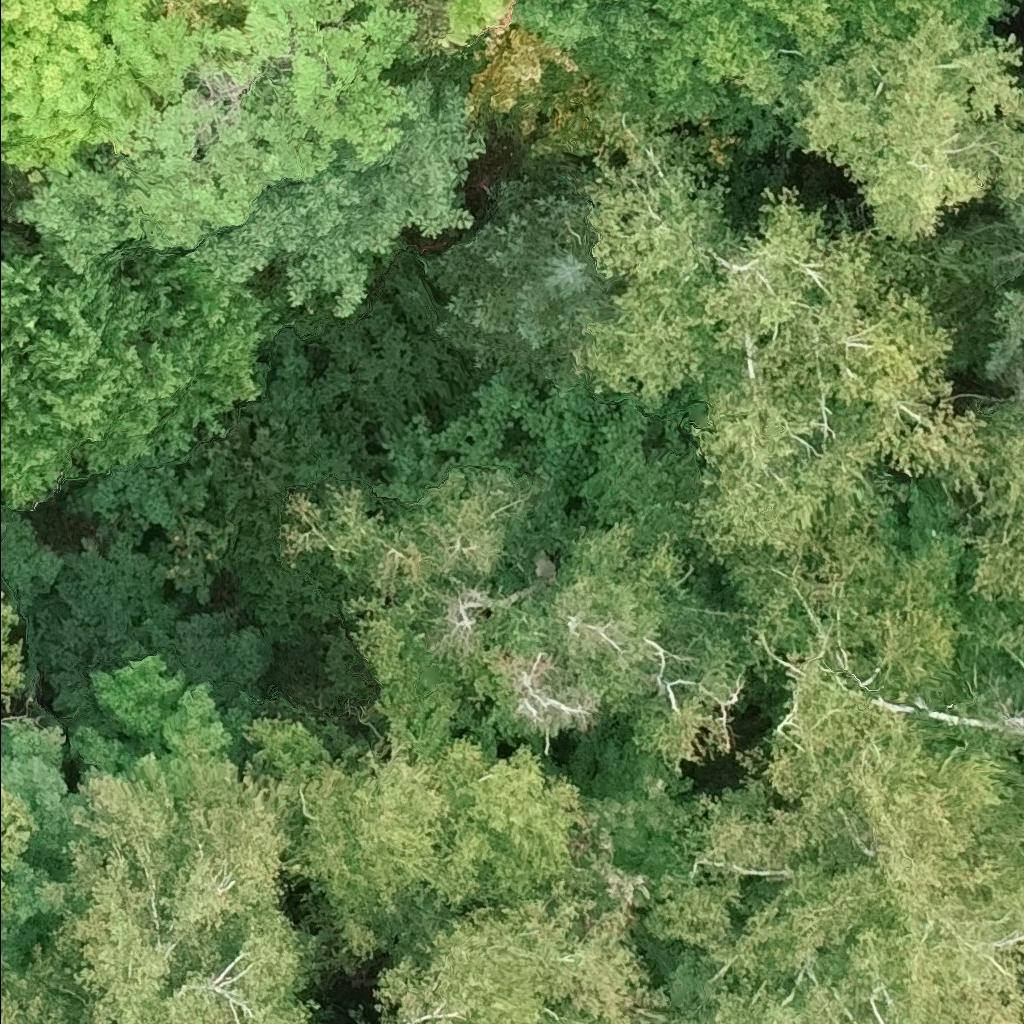crown: (575, 101, 990, 553), (636, 658, 1023, 1023), (283, 463, 744, 765), (8, 0, 423, 272), (23, 738, 330, 1023), (283, 733, 605, 973), (192, 67, 487, 317), (0, 251, 284, 510), (573, 0, 1017, 152), (711, 468, 975, 720), (782, 5, 1023, 250), (376, 875, 669, 1023), (421, 175, 627, 380), (0, 0, 189, 186), (965, 406, 1023, 670), (965, 187, 1023, 380), (0, 775, 37, 926), (0, 948, 73, 1023), (508, 0, 611, 52), (433, 0, 513, 51), (0, 585, 32, 704), (0, 0, 98, 37), (151, 0, 248, 28), (393, 0, 406, 5)
